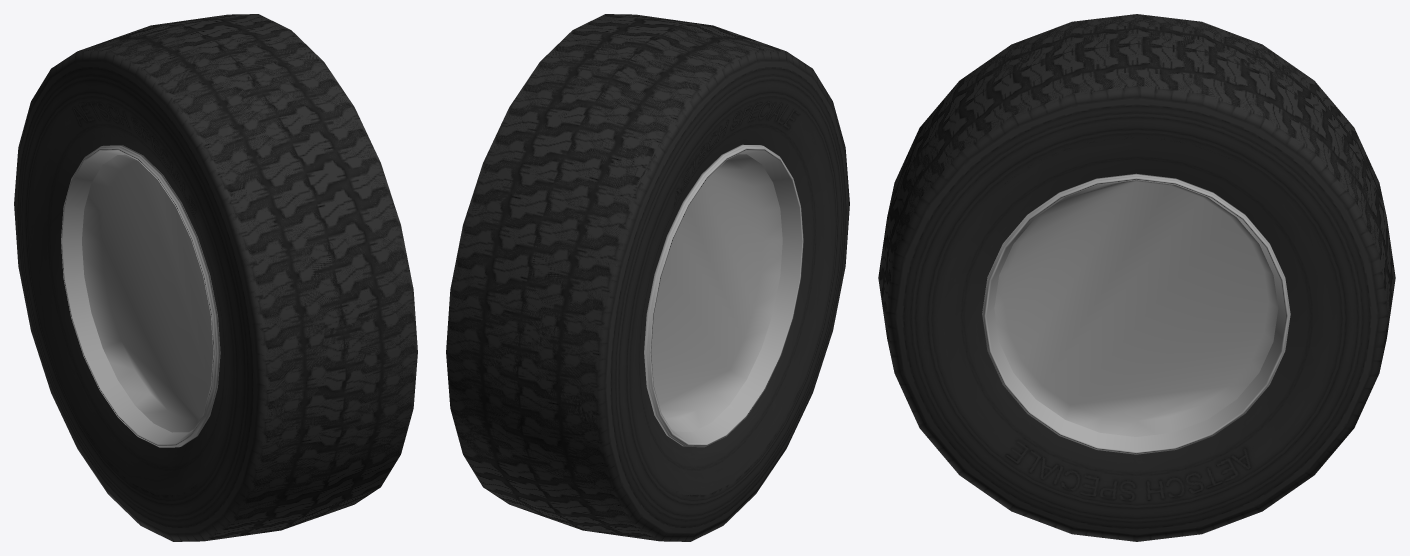
File: wheels_02.fbx
3 views of the same model, side by side, from view 1: azimuth 30°, elevation 25°; view 2: azimuth 150°, elevation 25°; view 3: azimuth 270°, elevation 25° (orthographic).
Parts seen in each view (by area): view 1: wheel_left, wheel_right; view 2: wheel_left, wheel_right; view 3: wheel_left, wheel_right.
Part boxes in pixels (x1,y1,x2,y2): wheel_left: [23, 14, 417, 541]; wheel_right: [14, 15, 417, 541]; wheel_left: [446, 14, 849, 541]; wheel_right: [446, 15, 849, 541]; wheel_left: [878, 14, 1395, 541]; wheel_right: [884, 14, 1389, 467].
Size of the model in its own units: 29.3 by 77.02 by 77.02.
